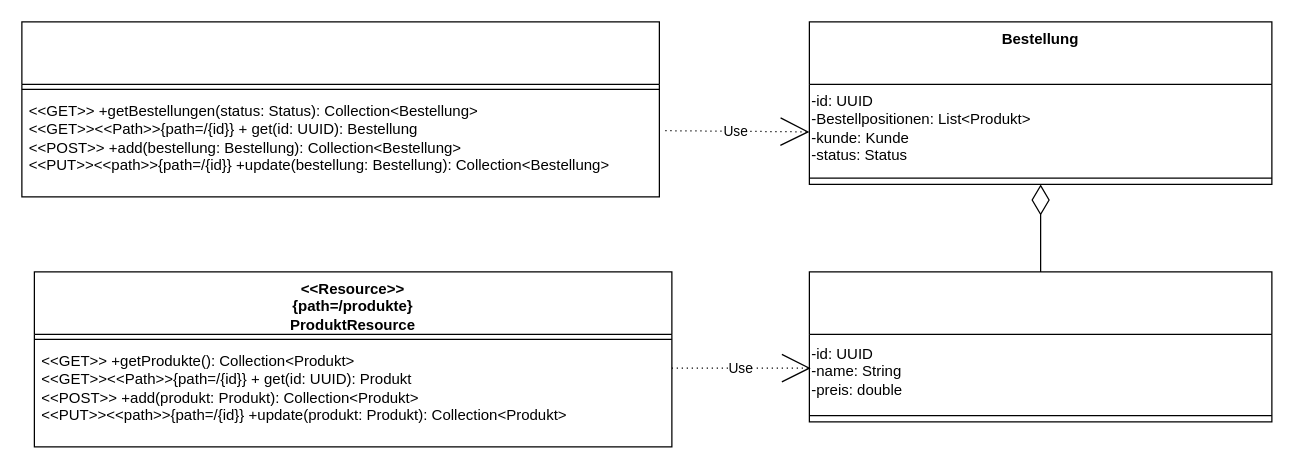
The diagram is 1294 pixels wide and 473 high, and some of its shapes have lost their labels. Here are the shapes that lost their labels. From the top down, the box of each, then its label:
(21, 21, 659, 197): <<Resource>> {path=/bestellungen} BestellungResource
(808, 271, 1272, 422): Produkt
